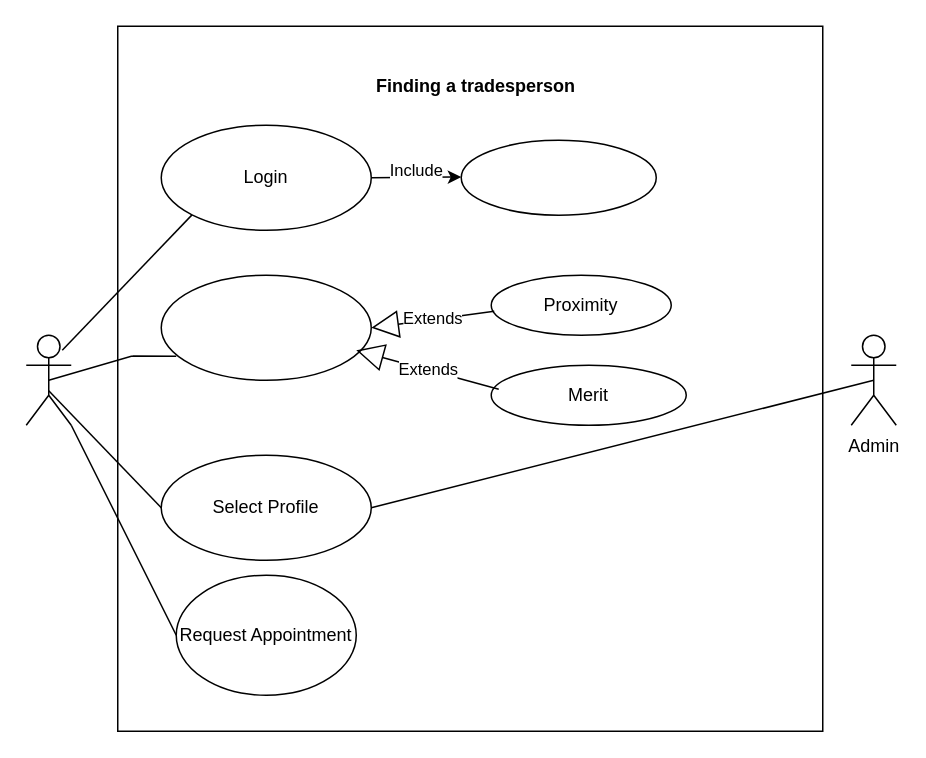
This 926x758 diagram has some shape labels left out. Each missing label, with the box of its shape:
Client: (25, 334, 71, 425)
Search for Tradesperson: (160, 274, 371, 380)
Verify Login: (460, 139, 656, 215)
